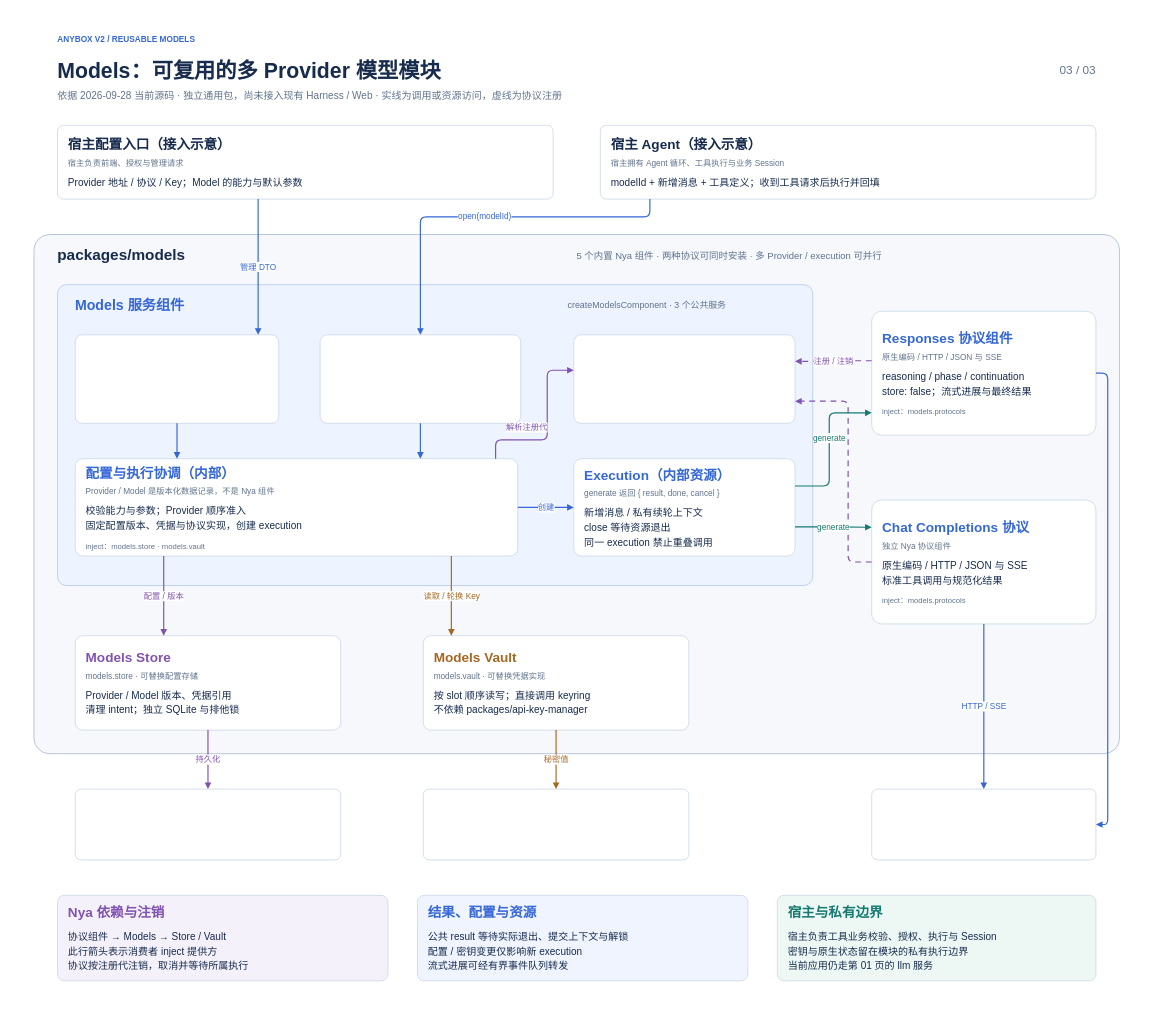
This 1153x1023 diagram has some shape labels left out. The shapes that lost their labels are listed below. From the top down, each one's centre as x and y in pixels, then its label:
the point at 177,378: models.settings 公共配置服务 配置 / 密钥管理 模型发现与连接检查
the point at 420,378: models 公共模型服务 查询模型；open(modelId) 返回 execution handle
the point at 684,378: models.protocols 公共协议注册服务 注册代 / 能力信息 注销时取消并等待退出
the point at 208,824: 独立配置 SQLite 外部资源 · 不使用业务 Session 表 配置 / 版本 / 引用；不保存密钥值
the point at 556,824: 系统凭据库 @napi-rs/keyring Keychain / Credential Manager / Secret Service
the point at 983,824: 远端 Provider API 外部资源 · 多连接并发 HTTP / SSE；两种协议独立接入
